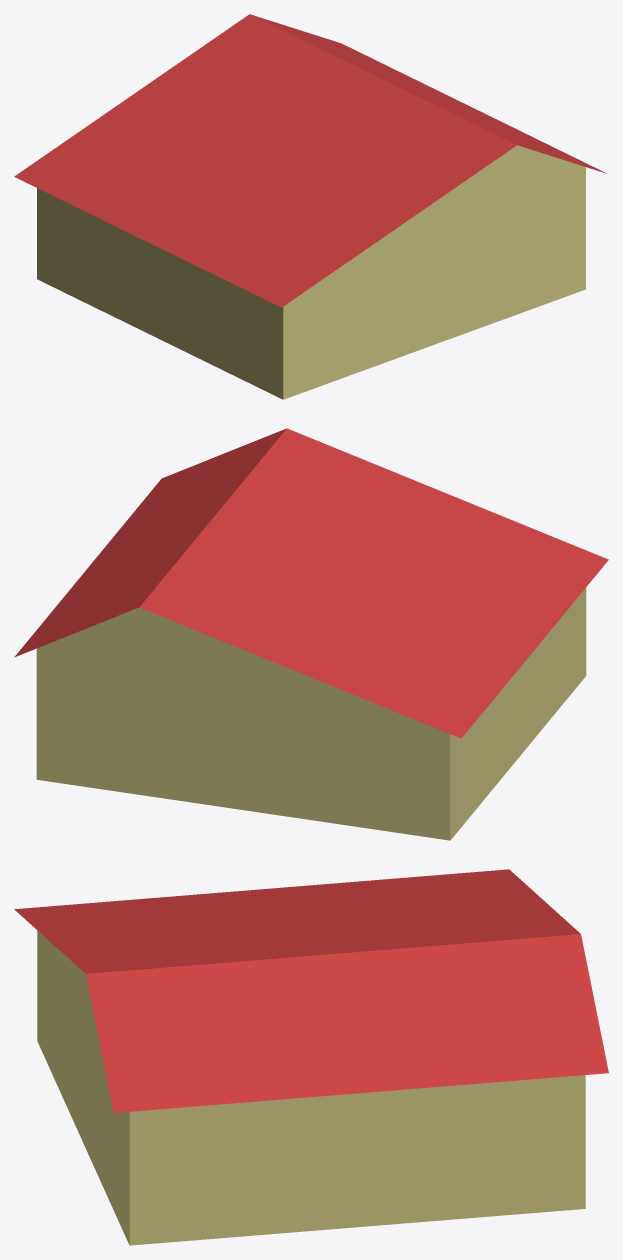
3 renders of one model, top to bottom at view 1: azimuth 30°, elevation 25°; view 2: azimuth 150°, elevation 25°; view 3: azimuth 270°, elevation 25°, orthographic. The views are drawn at different scales.
Size of the model in its own units: 30.93 by 29.81 by 12.14.
